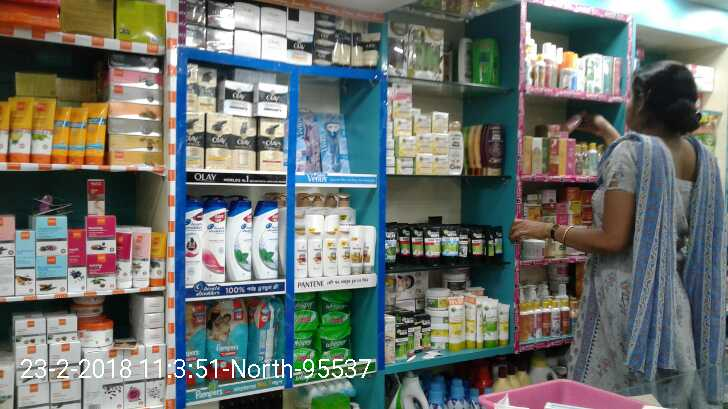venus: (321, 115, 350, 169), (296, 107, 321, 169)
